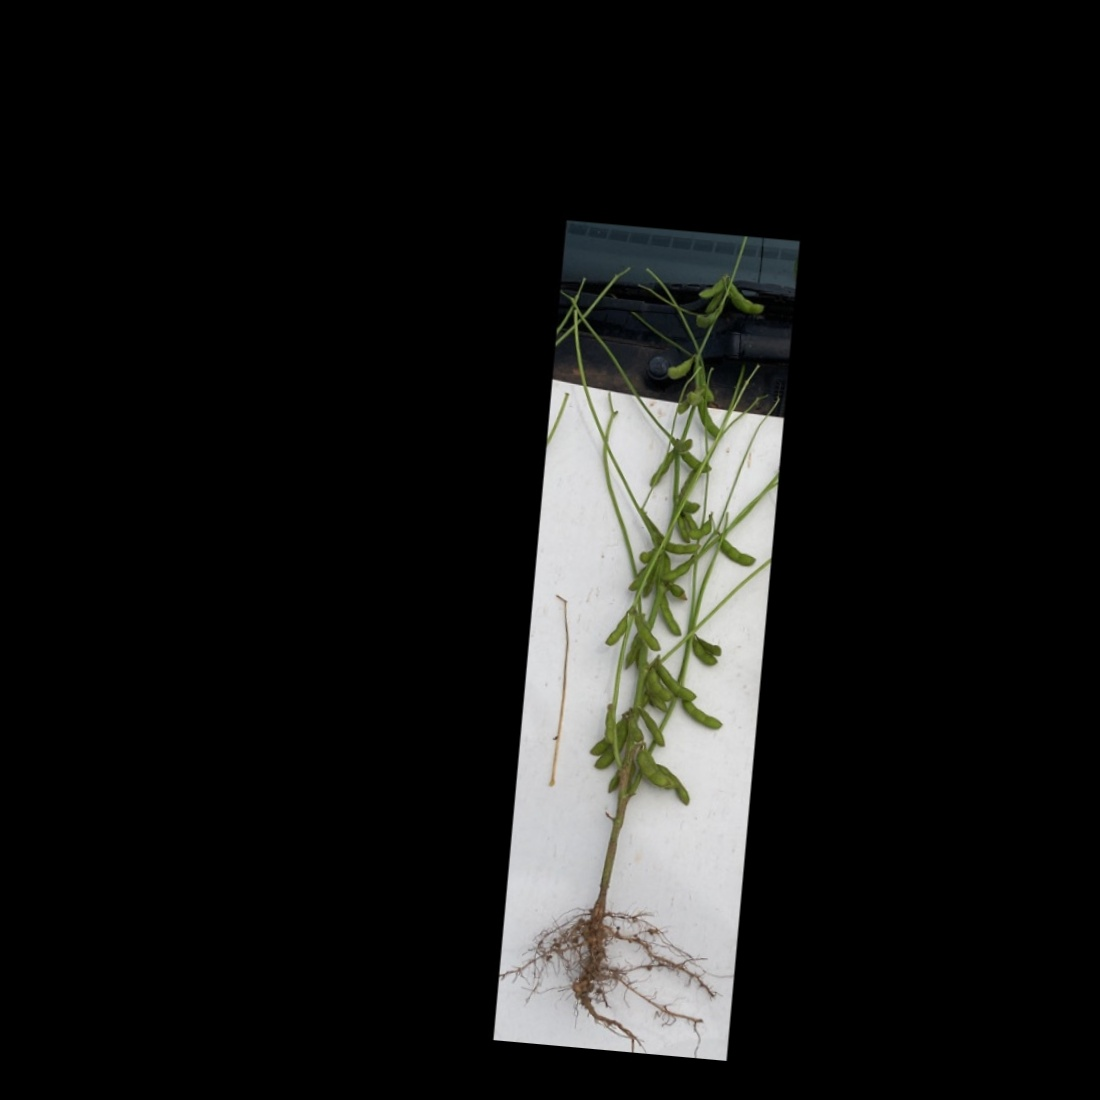pod: (649, 660, 702, 704), (624, 609, 665, 655), (630, 749, 674, 790), (676, 698, 726, 732), (656, 592, 686, 641), (658, 551, 698, 586), (717, 535, 760, 568), (603, 606, 628, 650), (689, 638, 720, 668)
soy: (512, 238, 788, 1017)
